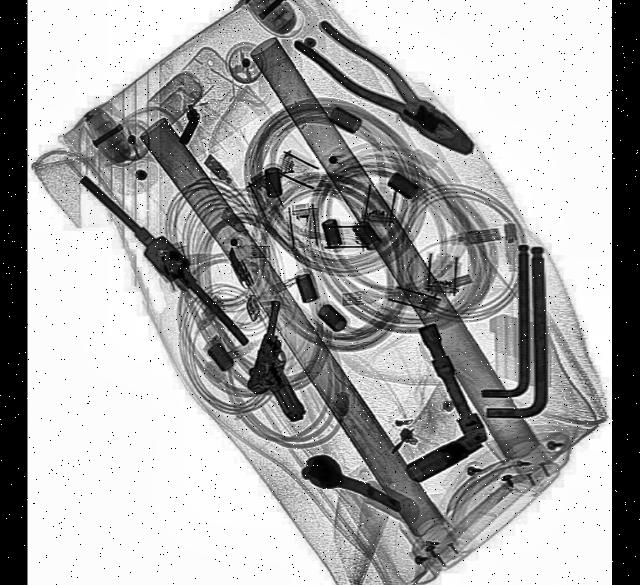Gun: (244, 295, 328, 422)
Pliers: (292, 5, 483, 169)
